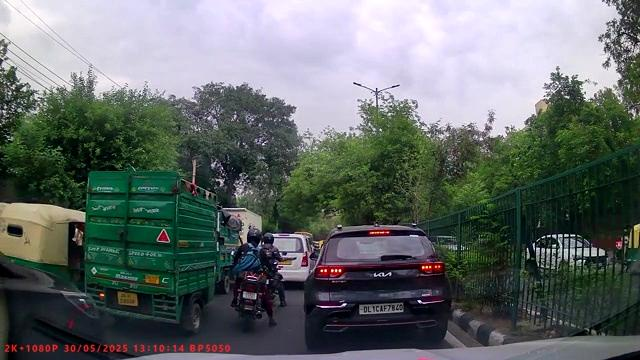motorcycle_with_helmet: (229, 226, 272, 331), (265, 230, 287, 308)
